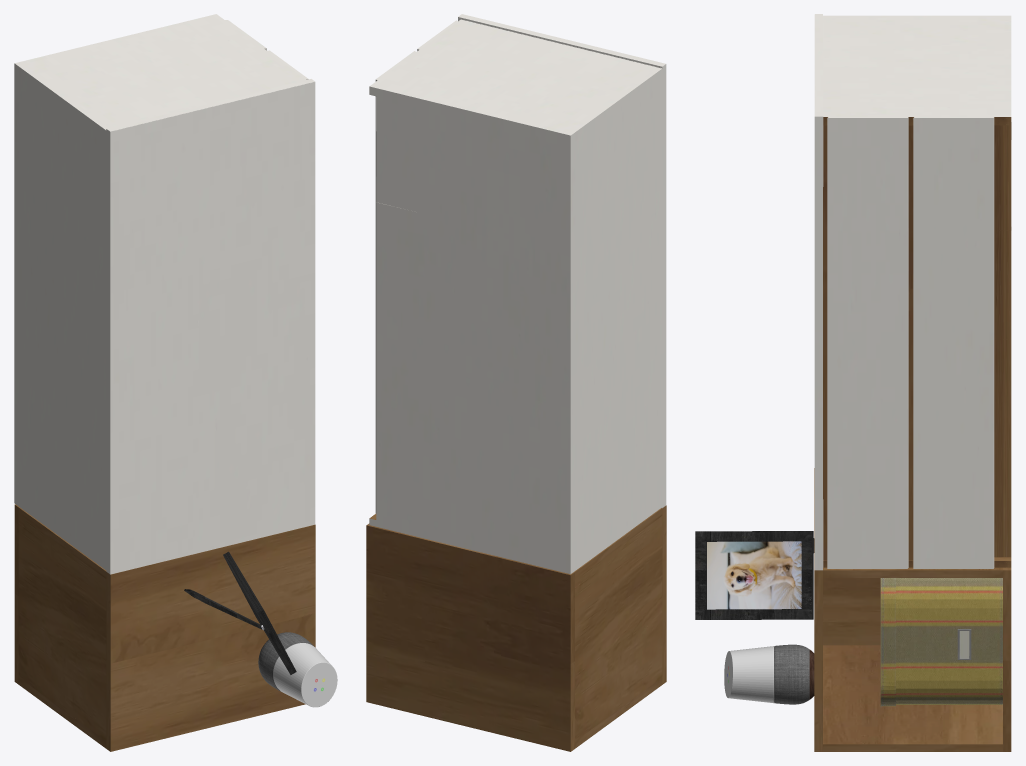
File: cred_onlywebp.glb
3 renders of one model, left to right at view 1: azimuth 30°, elevation 25°; view 2: azimuth 150°, elevation 25°; view 3: azimuth 270°, elevation 25°, orthographic. The views are drawn at different scales.
Visible parts, largest first — view 1: Mesh_0; view 2: Mesh_0; view 3: Mesh_0.
Boxes of the visible parts, <box> form: Mesh_0: <box>14,14,337,751</box>; Mesh_0: <box>366,14,666,751</box>; Mesh_0: <box>695,14,1011,751</box>.
Size of the model in its own units: 0.39 by 1.13 by 0.5081.
Materials: 9 (8 with a texture image).
